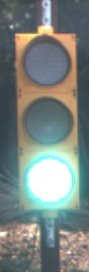Green: (8, 27, 89, 241)
